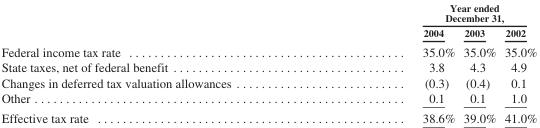table: (0, 1, 536, 124)
table column: (0, 1, 326, 124), (326, 1, 458, 124), (458, 1, 499, 124), (499, 1, 536, 124)
table column header: (0, 1, 536, 41)
table row: (0, 1, 536, 24), (0, 41, 536, 59), (0, 89, 536, 107), (0, 24, 536, 41), (0, 107, 536, 124), (0, 59, 536, 74), (0, 74, 536, 89)
table spanning cell: (326, 1, 536, 24)
